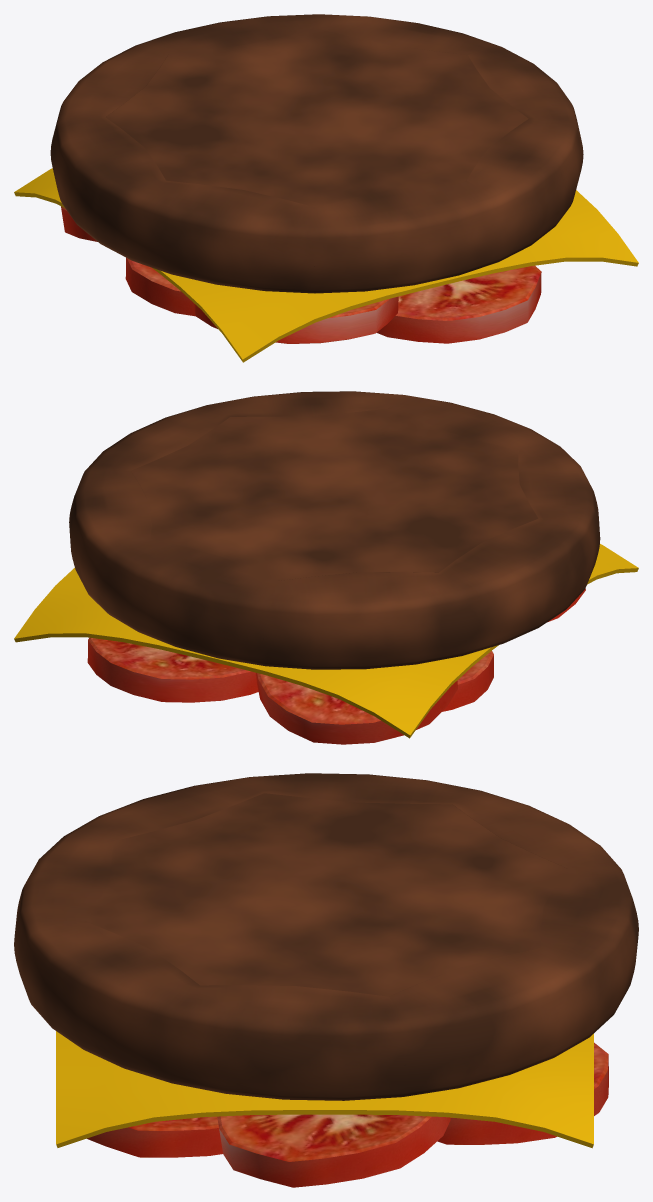
File: cheese-tomato-meat.glb
The picture shows the model from 3 angles, top to bottom: view 1: azimuth 30°, elevation 25°; view 2: azimuth 150°, elevation 25°; view 3: azimuth 270°, elevation 25°; orthographic projection. The views are drawn at different scales.
Visible parts, largest first — view 1: meat, cheese, pCylinder19_9; view 2: meat, pCylinder19_9, cheese; view 3: meat, cheese, pCylinder19_9.
Boxes of the visible parts, x1=… form: meat: x1=50, y1=14, x2=583, y2=293; cheese: x1=14, y1=168, x2=638, y2=362; pCylinder19_9: x1=61, y1=206, x2=541, y2=343; meat: x1=69, y1=391, x2=600, y2=669; pCylinder19_9: x1=87, y1=588, x2=585, y2=744; cheese: x1=14, y1=544, x2=638, y2=738; meat: x1=14, y1=773, x2=638, y2=1100; cheese: x1=56, y1=1031, x2=593, y2=1148; pCylinder19_9: x1=87, y1=1042, x2=608, y2=1187.
Size of the model in its own units: 1.12 by 0.3614 by 1.11.
Materials: 4 (3 with a texture image).
